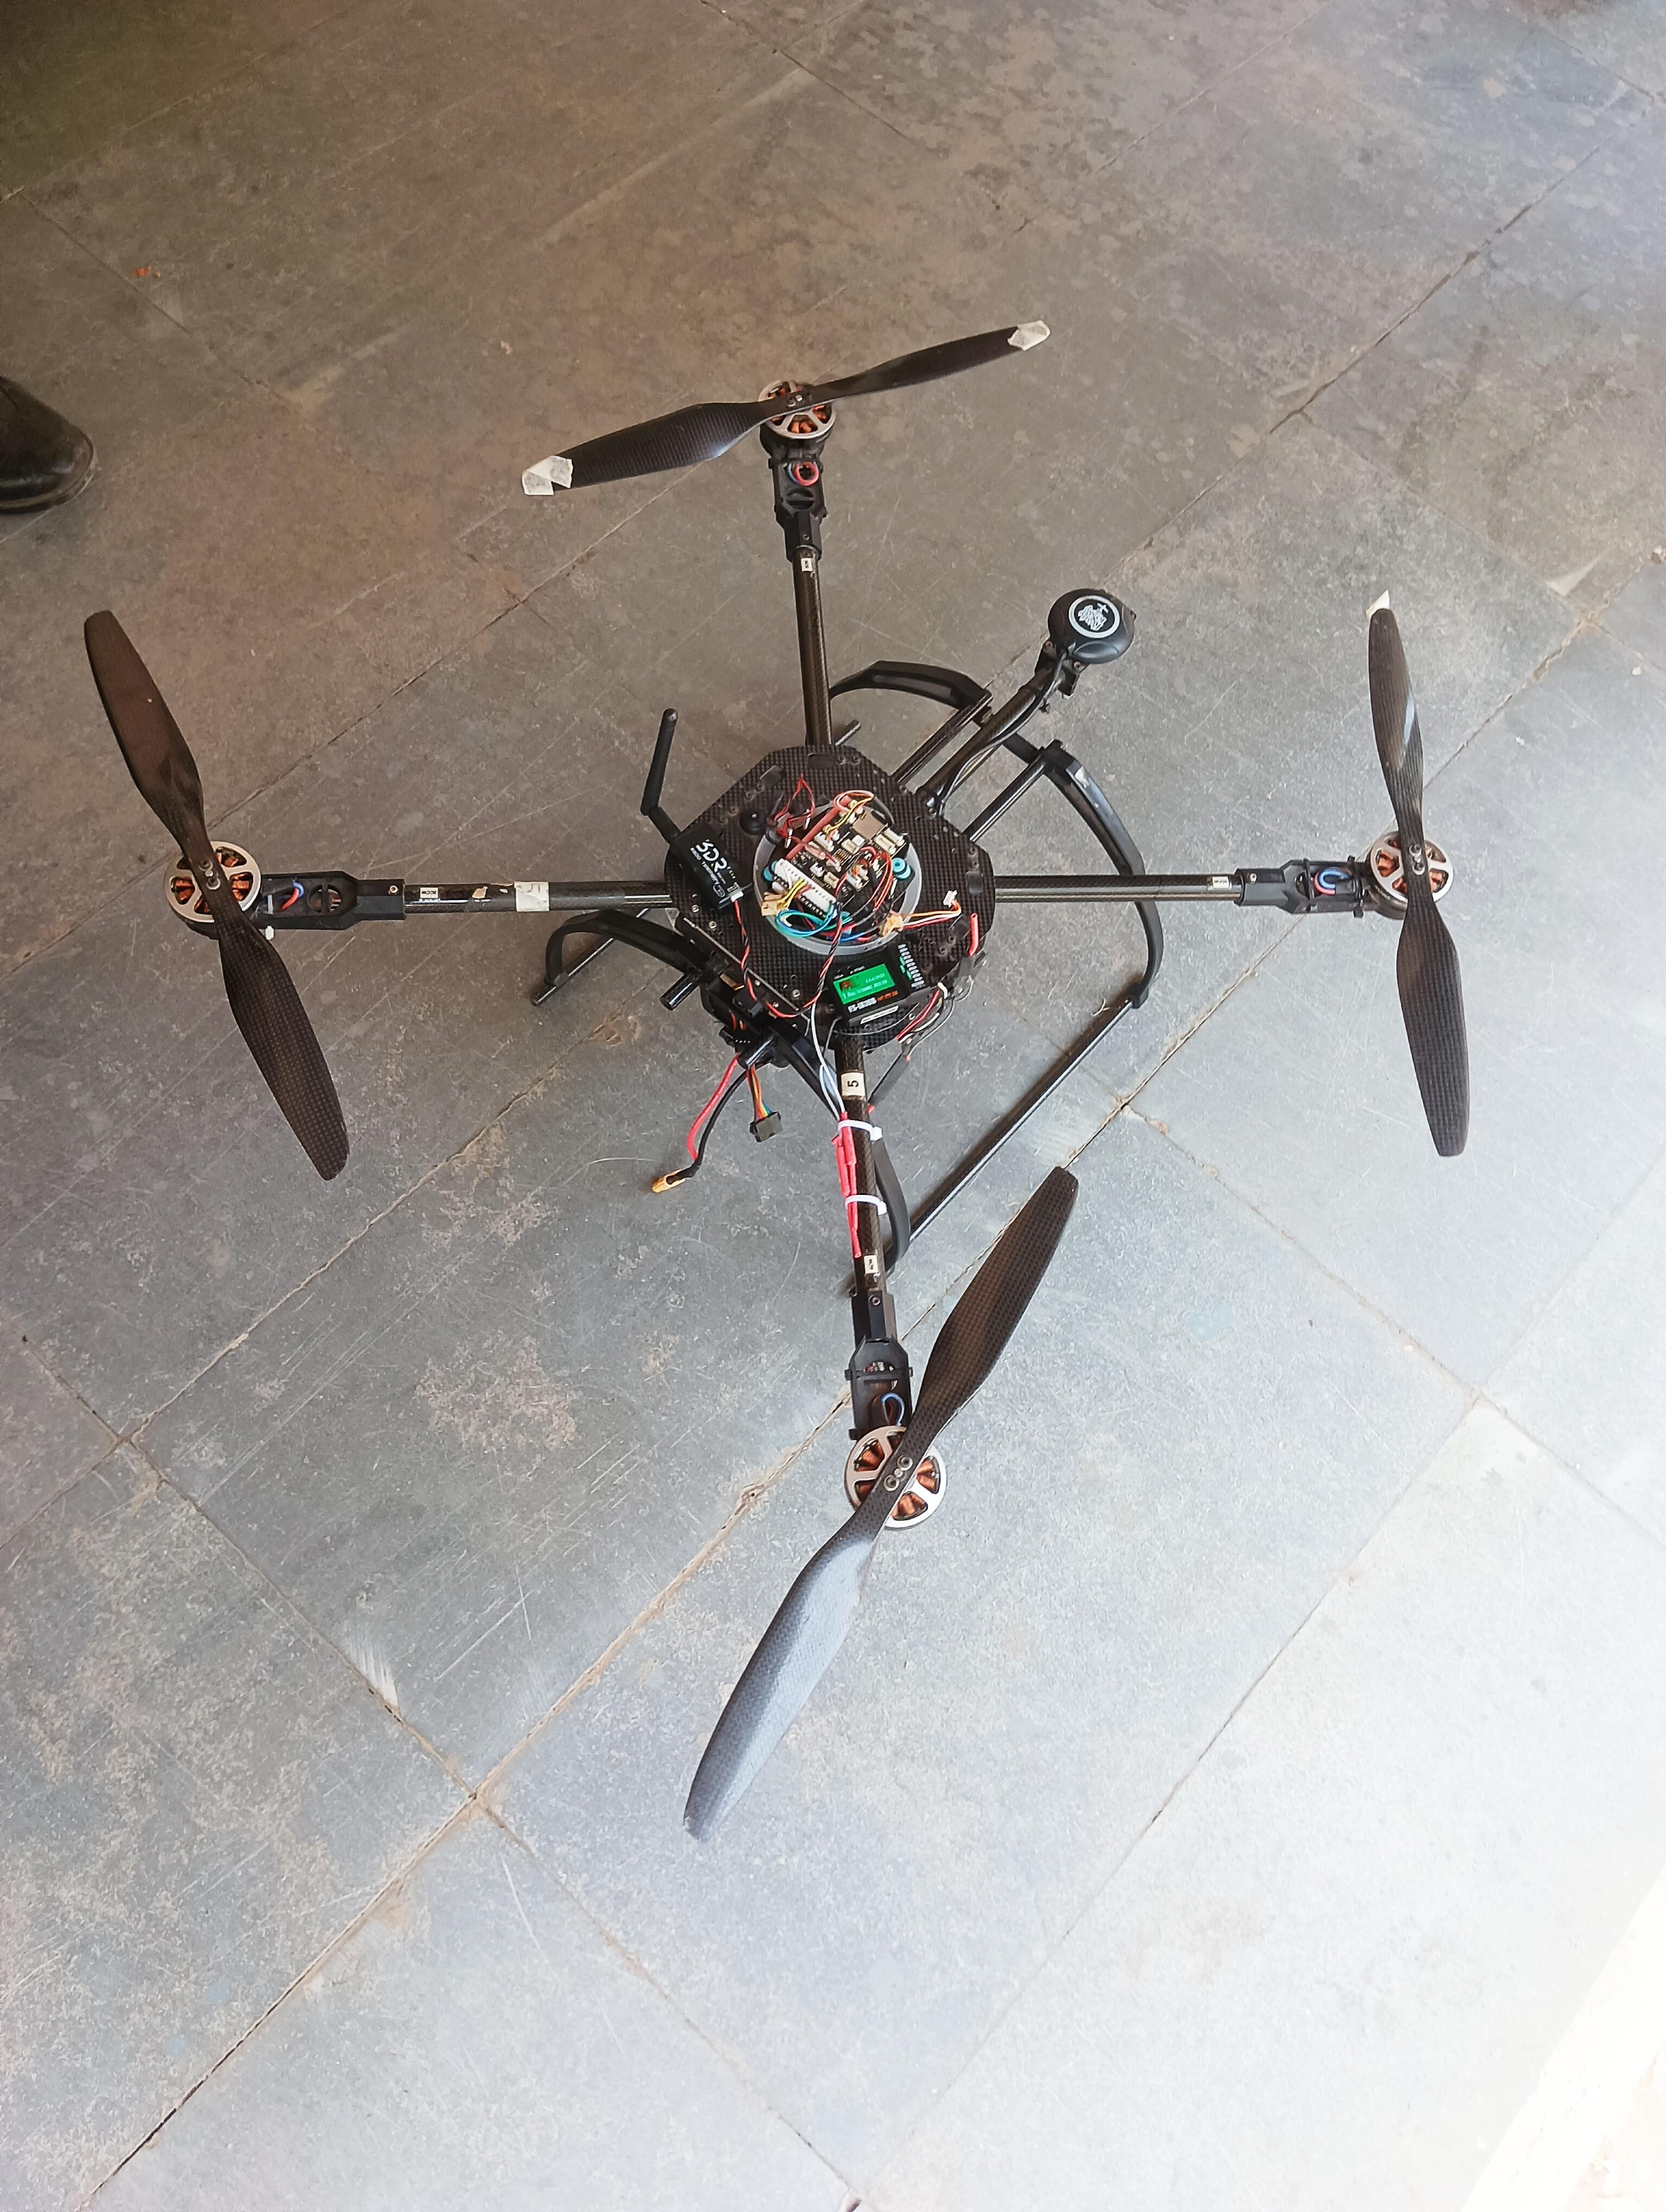drone: (0, 261, 1554, 1855)
